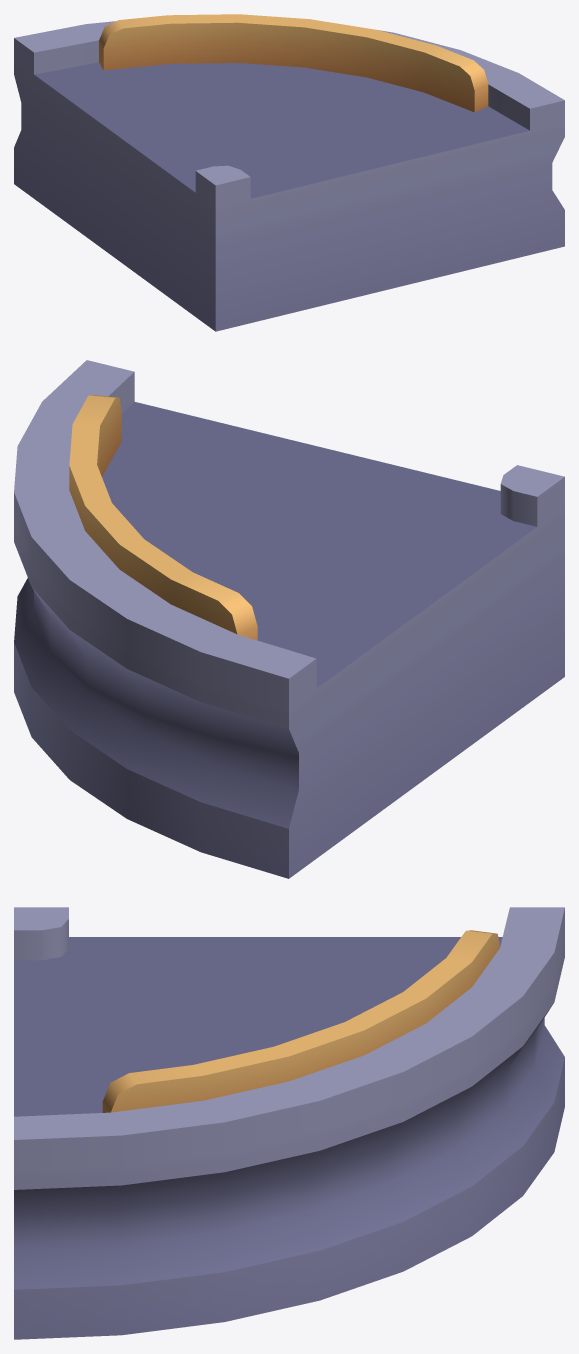
The model's file is conveyor-corner.glb.
3 views of the same model, one above another, from view 1: azimuth 30°, elevation 25°; view 2: azimuth 150°, elevation 25°; view 3: azimuth 270°, elevation 25° (orthographic). The views are drawn at different scales.
Visible parts, largest first — view 1: conveyor-corner; view 2: conveyor-corner; view 3: conveyor-corner.
Part boxes in pixels (box(x1,y1,x2,y2)): conveyor-corner: box(14, 14, 564, 331); conveyor-corner: box(14, 360, 564, 878); conveyor-corner: box(14, 907, 564, 1339).
Bounding box in the file's own units: 1 × 0.45 × 1.
Materials: 1 (1 with a texture image).
